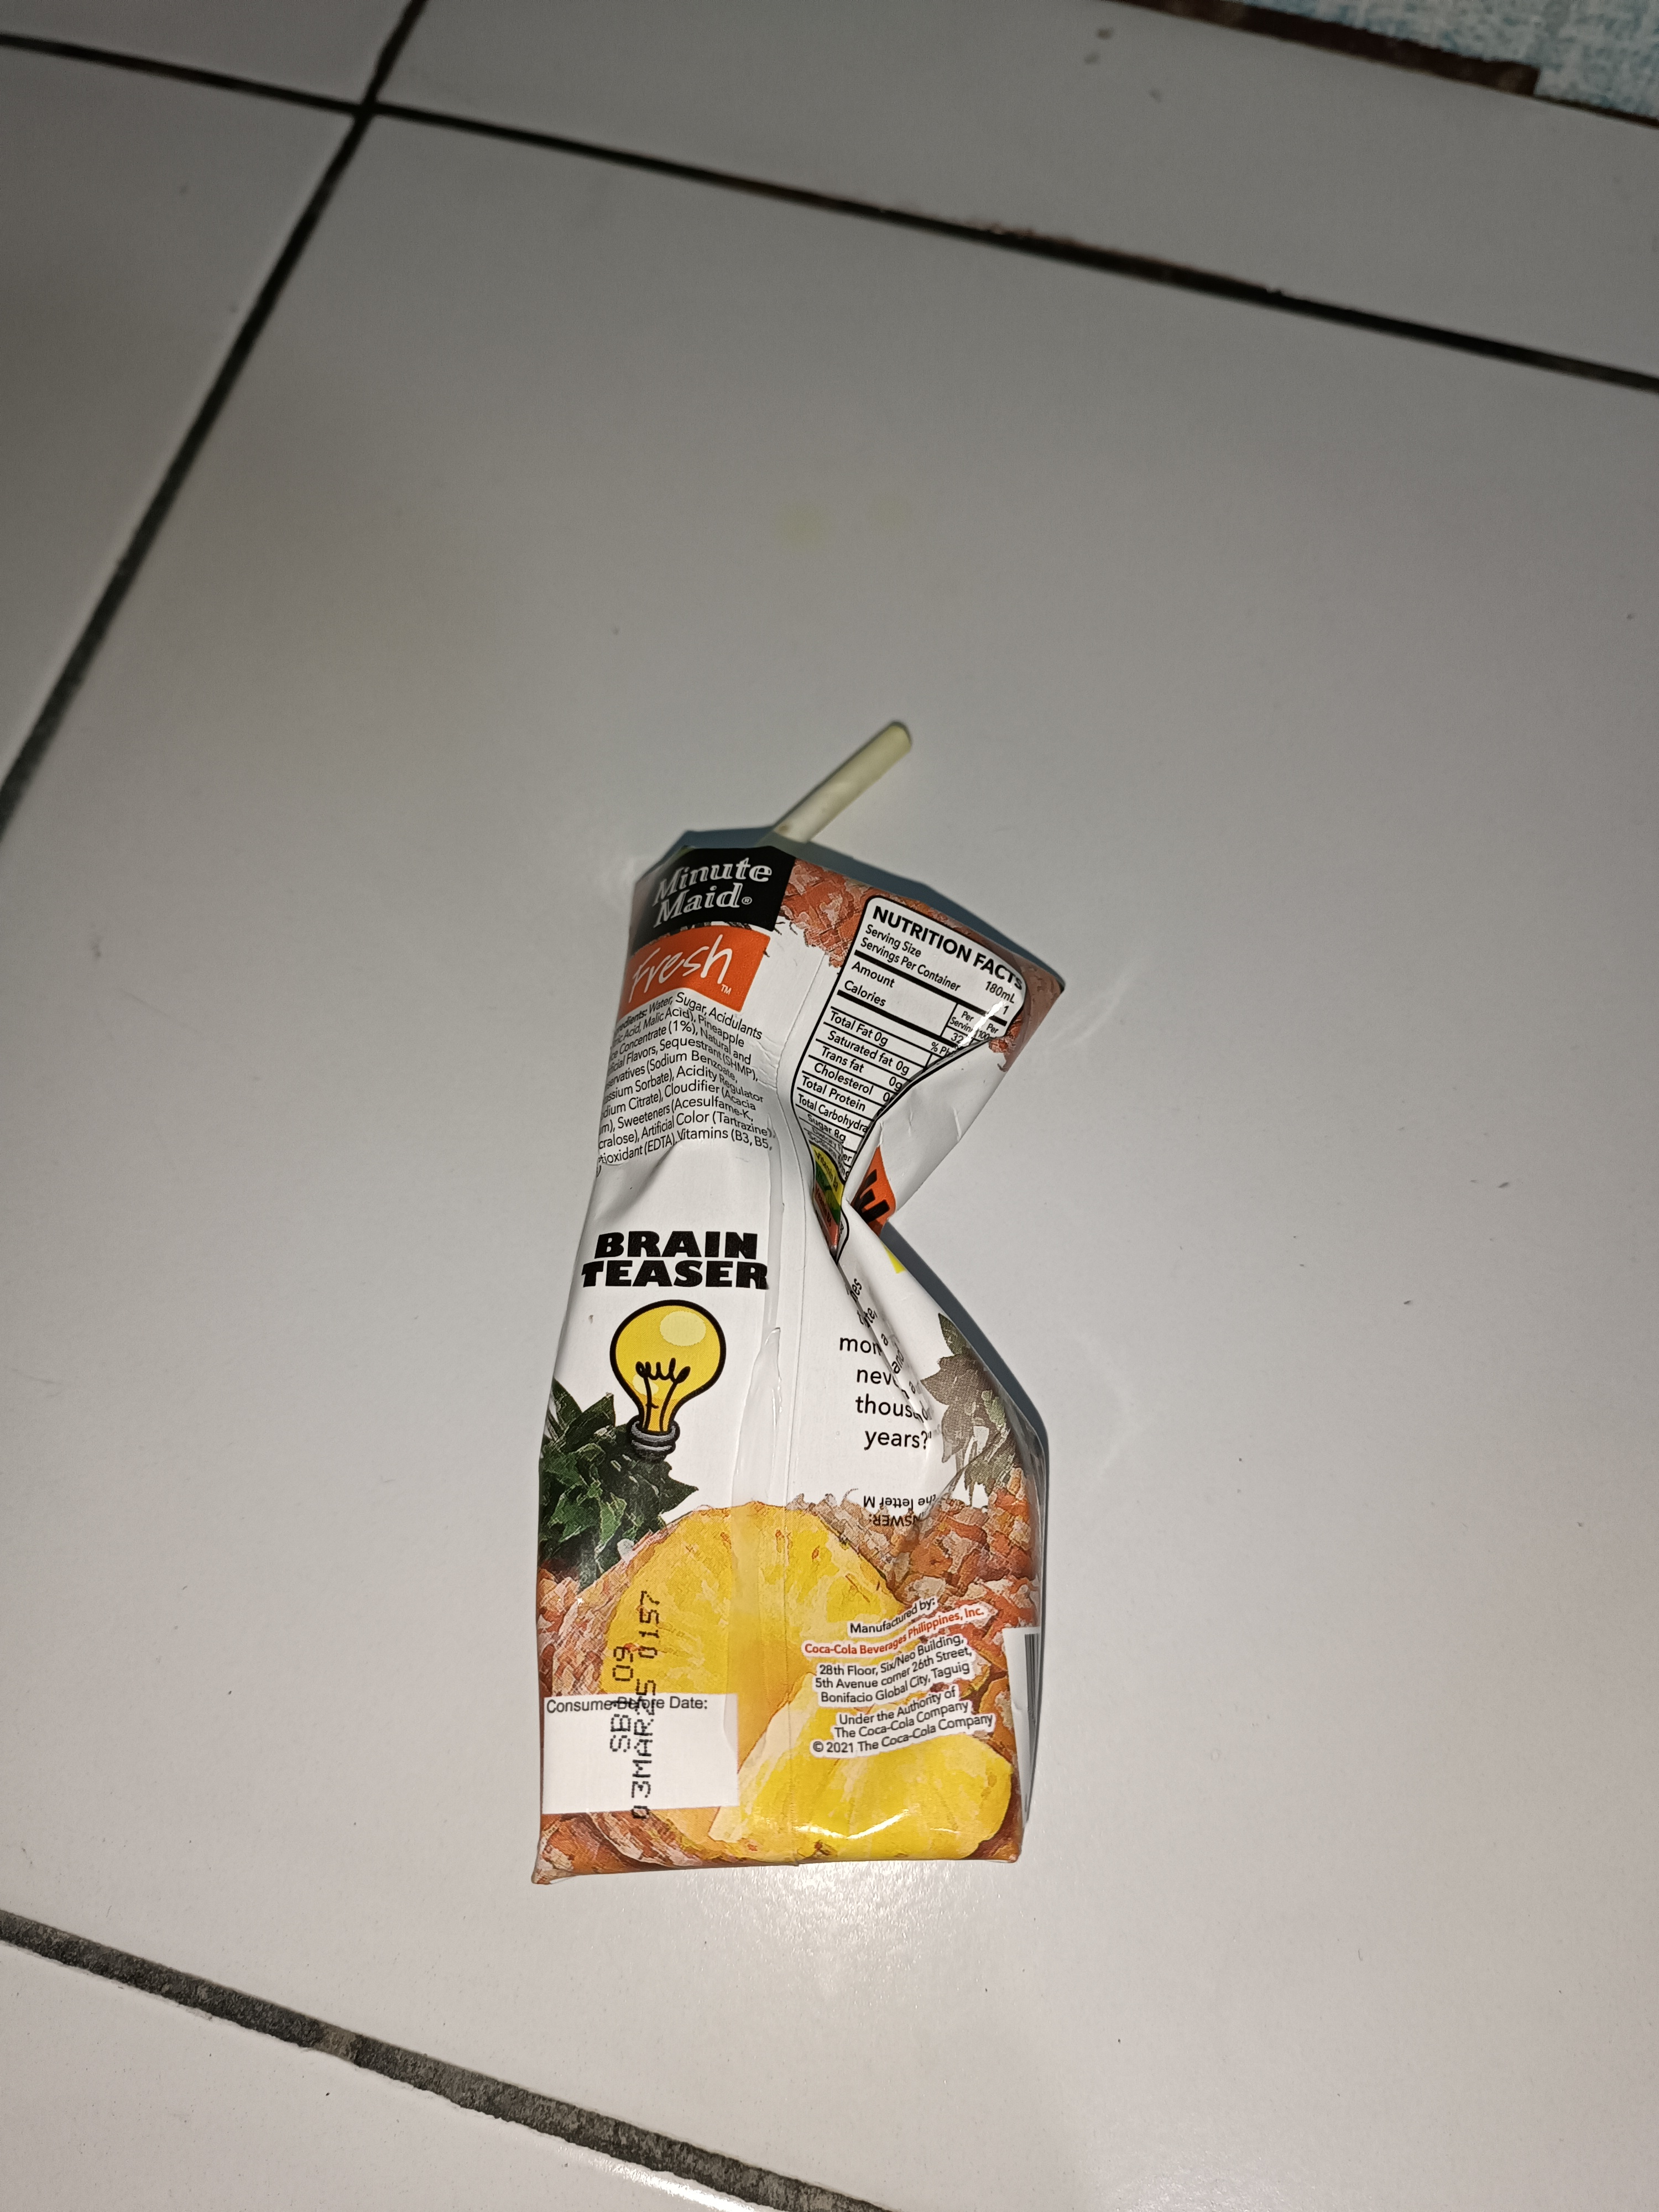Juice Box: (272, 538, 1216, 1965)
